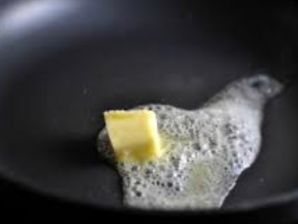Butter: (103, 109, 160, 160)
